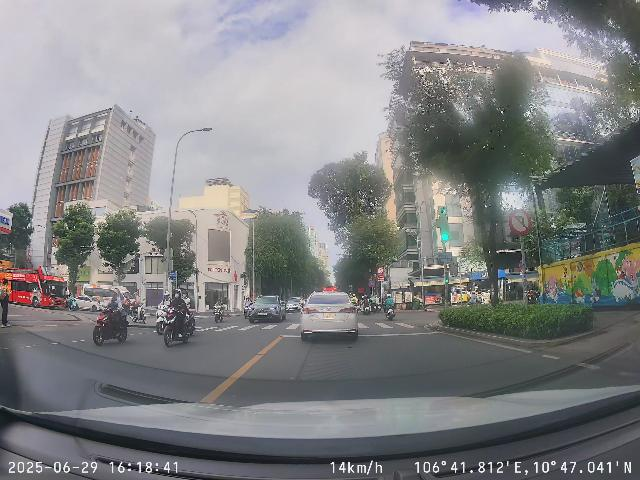123a-cam-re-trai: (509, 208, 532, 236)
